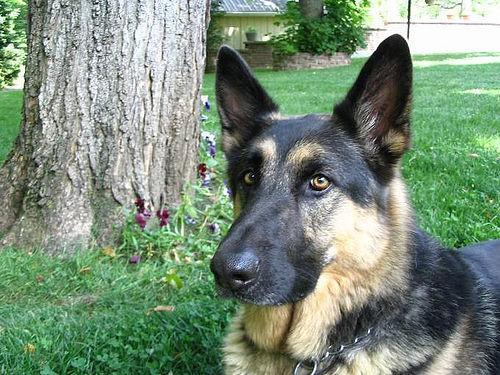German_shepherd: (205, 32, 499, 374)
